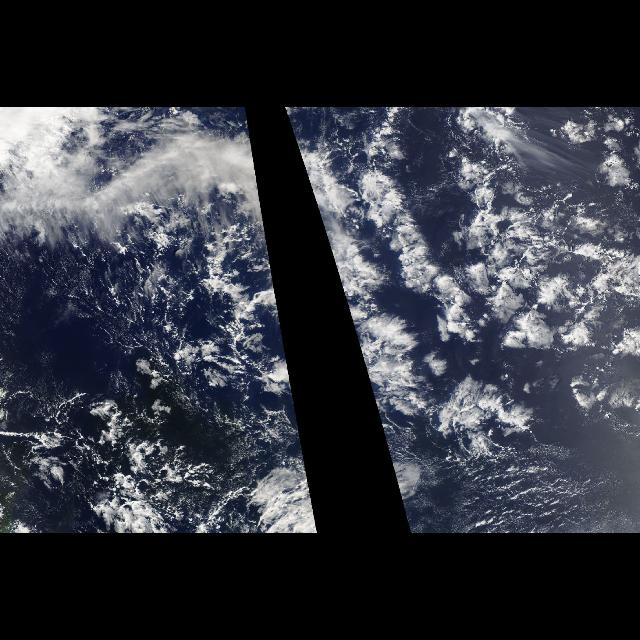Flower: (422, 160, 638, 370)
Gravel: (104, 439, 223, 509)
Sugar: (417, 451, 639, 532)
